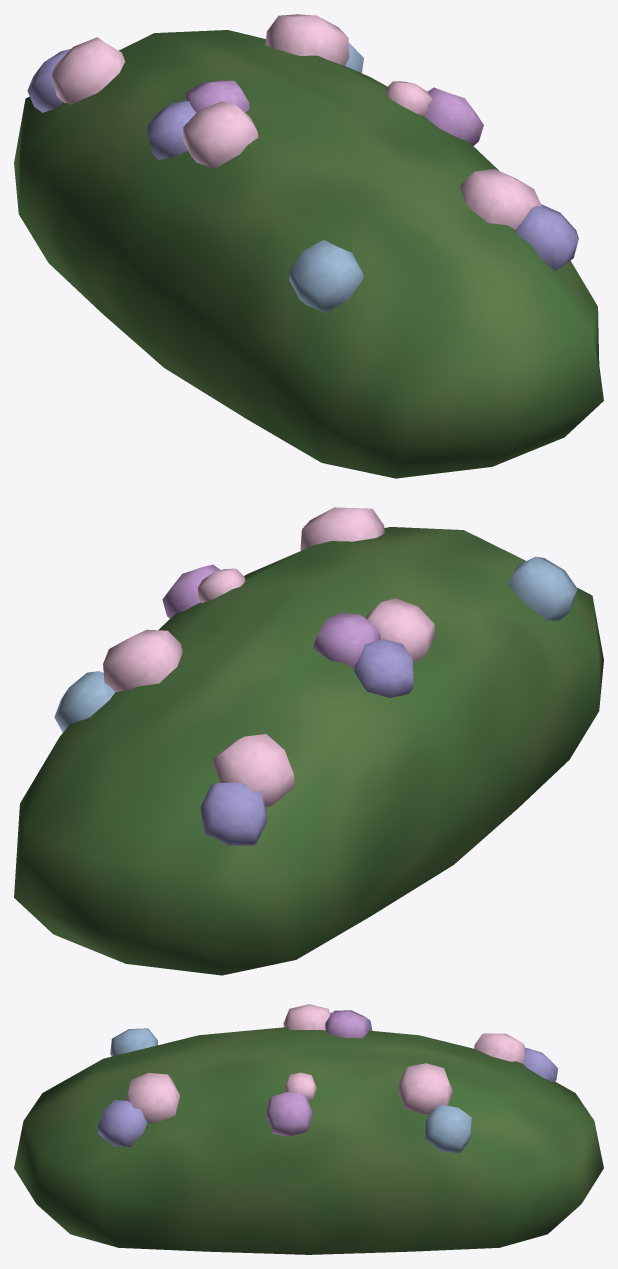
Rendered from Arbusto_Flores_1.fbx.
3 renders of one model, top to bottom at view 1: azimuth 30°, elevation 25°; view 2: azimuth 150°, elevation 25°; view 3: azimuth 270°, elevation 25°, orthographic. The views are drawn at different scales.
Parts seen in each view (by area): view 1: Arbusto_Flores_1; view 2: Arbusto_Flores_1; view 3: Arbusto_Flores_1.
Part boxes in pixels (bbox=[...]): Arbusto_Flores_1: bbox=[14, 14, 603, 478]; Arbusto_Flores_1: bbox=[14, 507, 603, 975]; Arbusto_Flores_1: bbox=[14, 1004, 603, 1254].
Size of the model in its own units: 61.92 by 43.43 by 136.
Materials: 1 (1 with a texture image).
